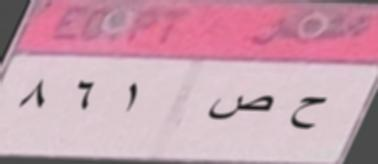1: (115, 76, 143, 120)
6: (69, 72, 98, 118)
7aa: (289, 88, 327, 136)
8: (14, 78, 50, 116)
saad: (201, 88, 276, 126)
